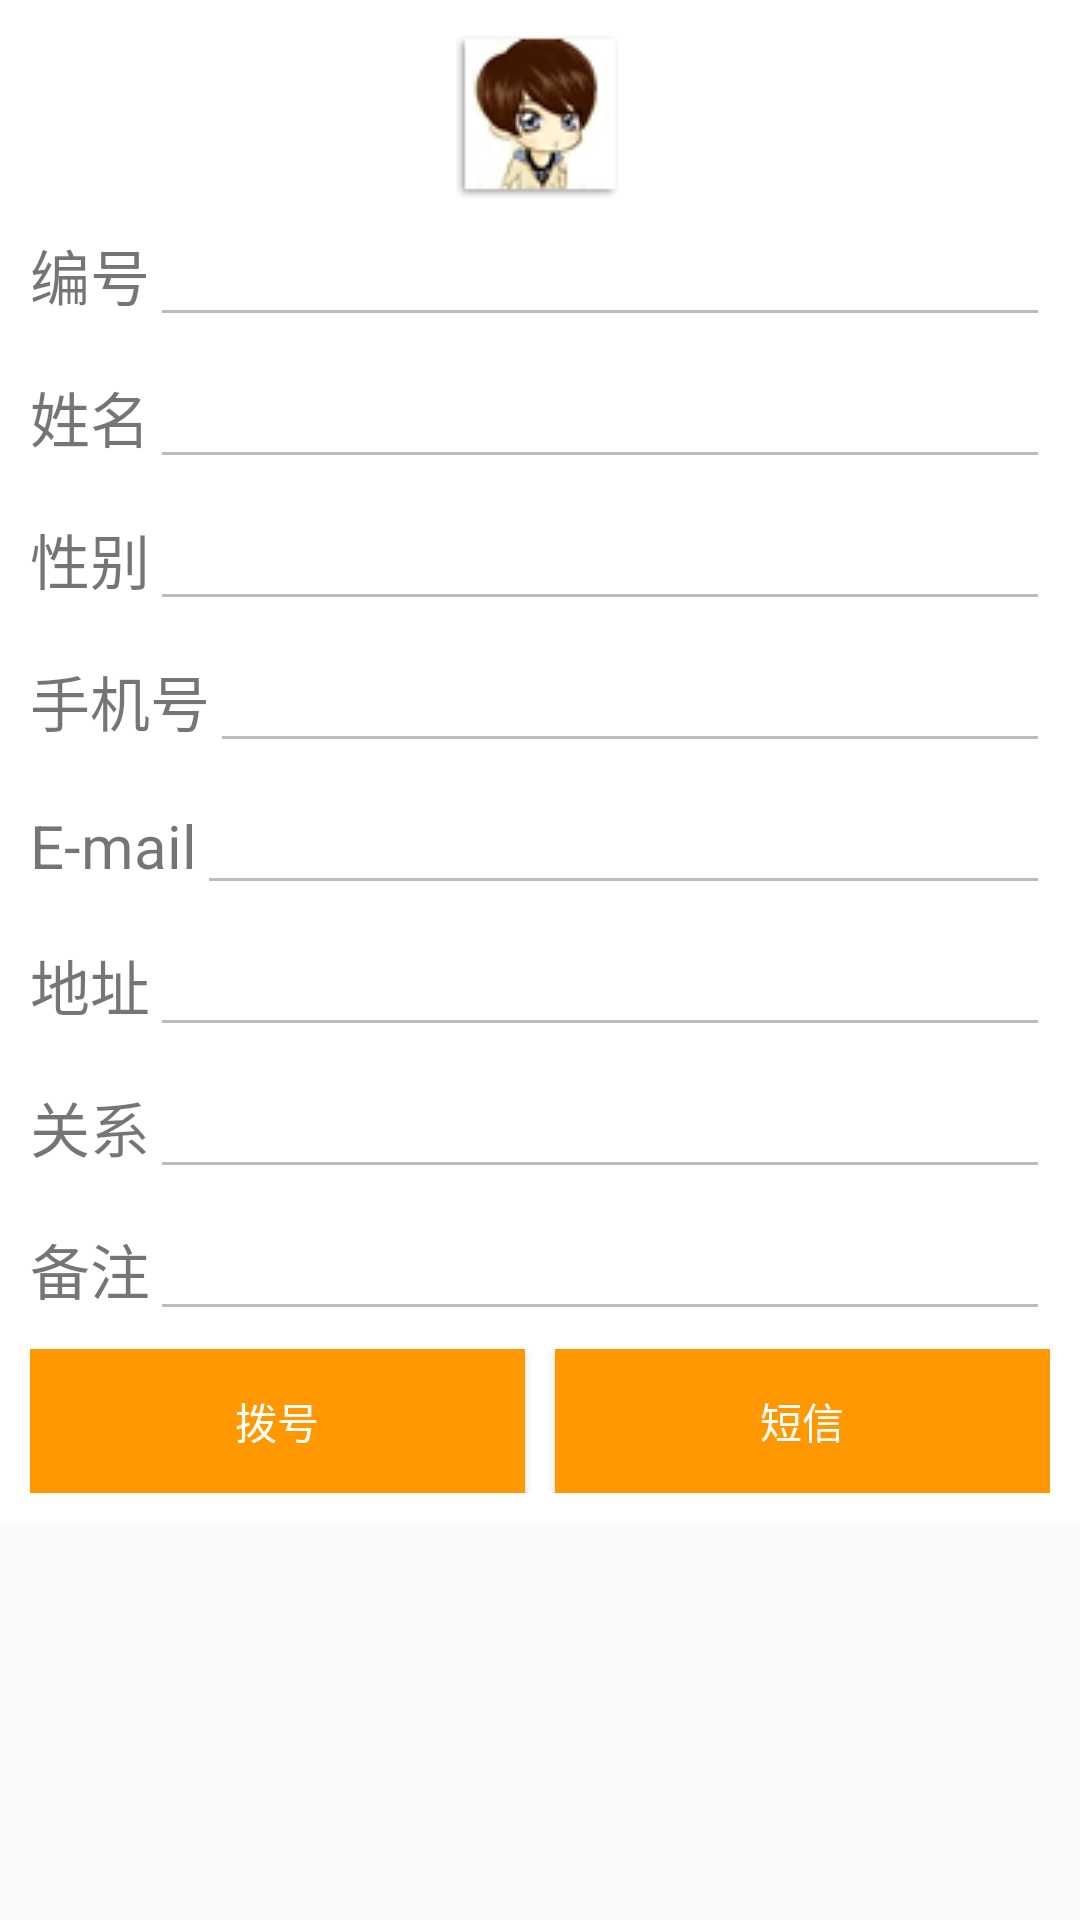

Screen size 1080×1920. Icon name, then its center in pixels as (x,y):
boy: (536,116)
